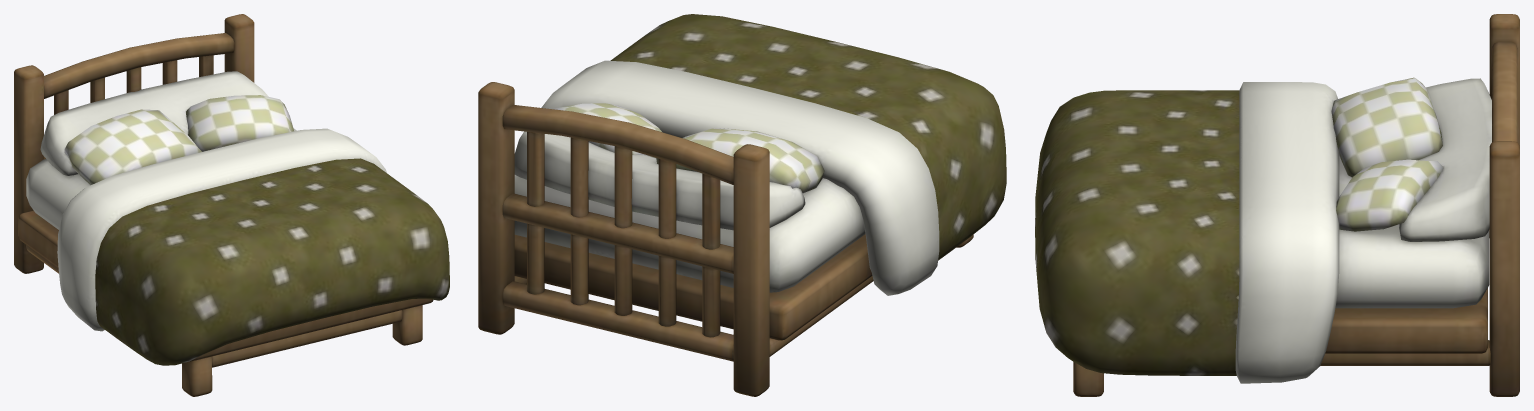
The model's file is Bed.glb.
3 renders of one model, left to right at view 1: azimuth 30°, elevation 25°; view 2: azimuth 150°, elevation 25°; view 3: azimuth 270°, elevation 25°, orthographic. The views are drawn at different scales.
Parts seen in each view (by area): view 1: Bed; view 2: Bed; view 3: Bed.
Boxes of the visible parts, x1=… form: Bed: x1=14, y1=14, x2=449, y2=396; Bed: x1=478, y1=14, x2=1006, y2=396; Bed: x1=1035, y1=14, x2=1519, y2=396.
Bounding box in the file's own units: 0.1726 × 0.1077 × 0.1914.
Materials: 1 (1 with a texture image).
